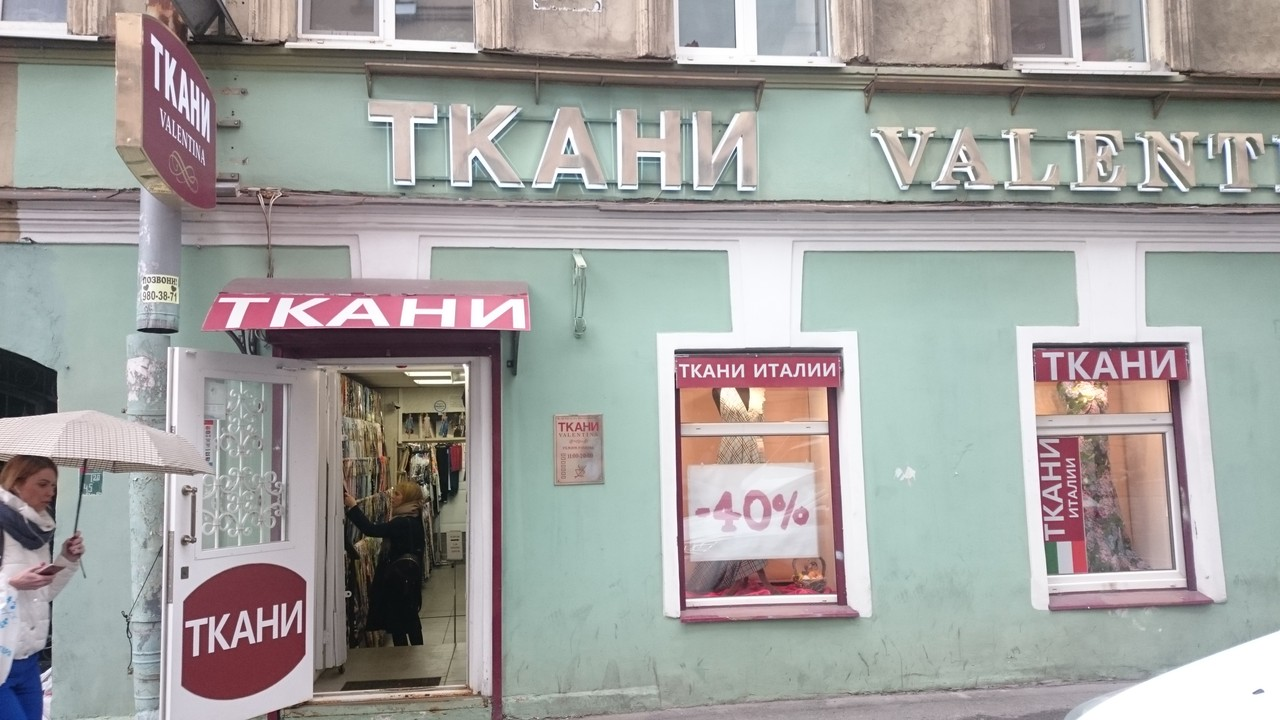cantilever: (111, 7, 227, 216)
door: (167, 342, 489, 717)
signboard: (367, 102, 758, 192), (872, 125, 1280, 192)
window: (672, 351, 844, 613), (1032, 346, 1203, 600)
